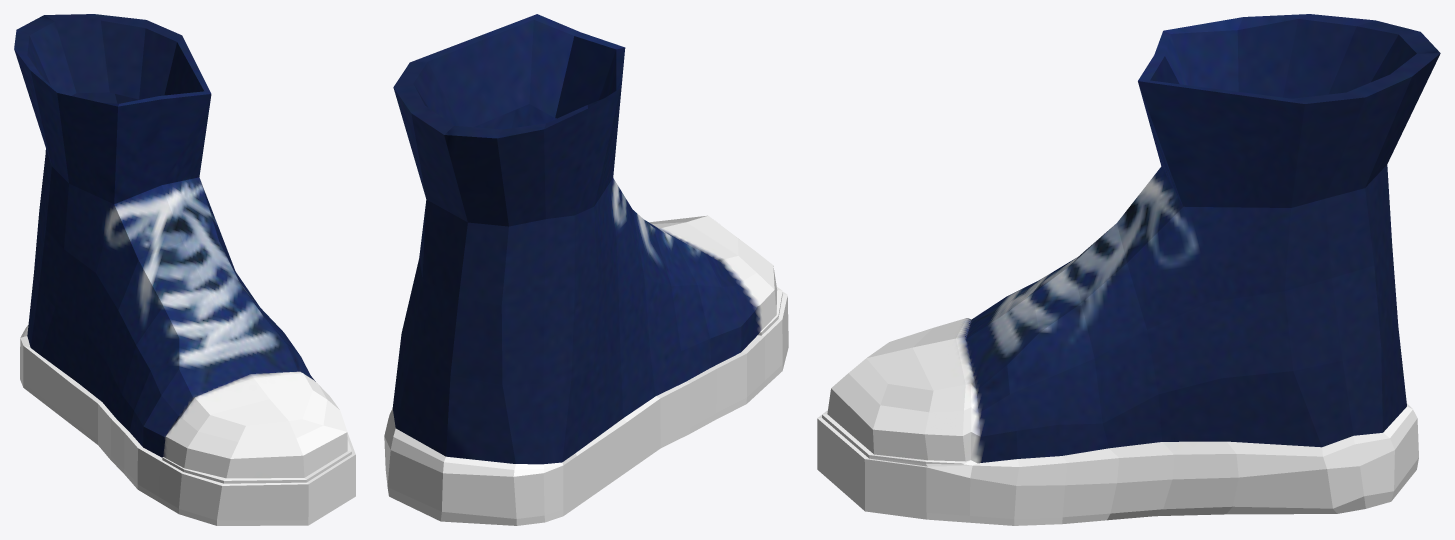
Rendered from xiezi-zuo.fbx.
The picture shows the model from 3 angles, left to right: view 1: azimuth 30°, elevation 25°; view 2: azimuth 150°, elevation 25°; view 3: azimuth 270°, elevation 25°; orthographic projection. The views are drawn at different scales.
Parts seen in each view (by area): view 1: polySurface4; view 2: polySurface4; view 3: polySurface4.
Part boxes in pixels (bbox=[...]): polySurface4: bbox=[14, 14, 355, 525]; polySurface4: bbox=[384, 14, 788, 525]; polySurface4: bbox=[817, 14, 1440, 525].
Size of the model in its own units: 1.58 by 2.71 by 3.73.
1 material, 1 textured.
